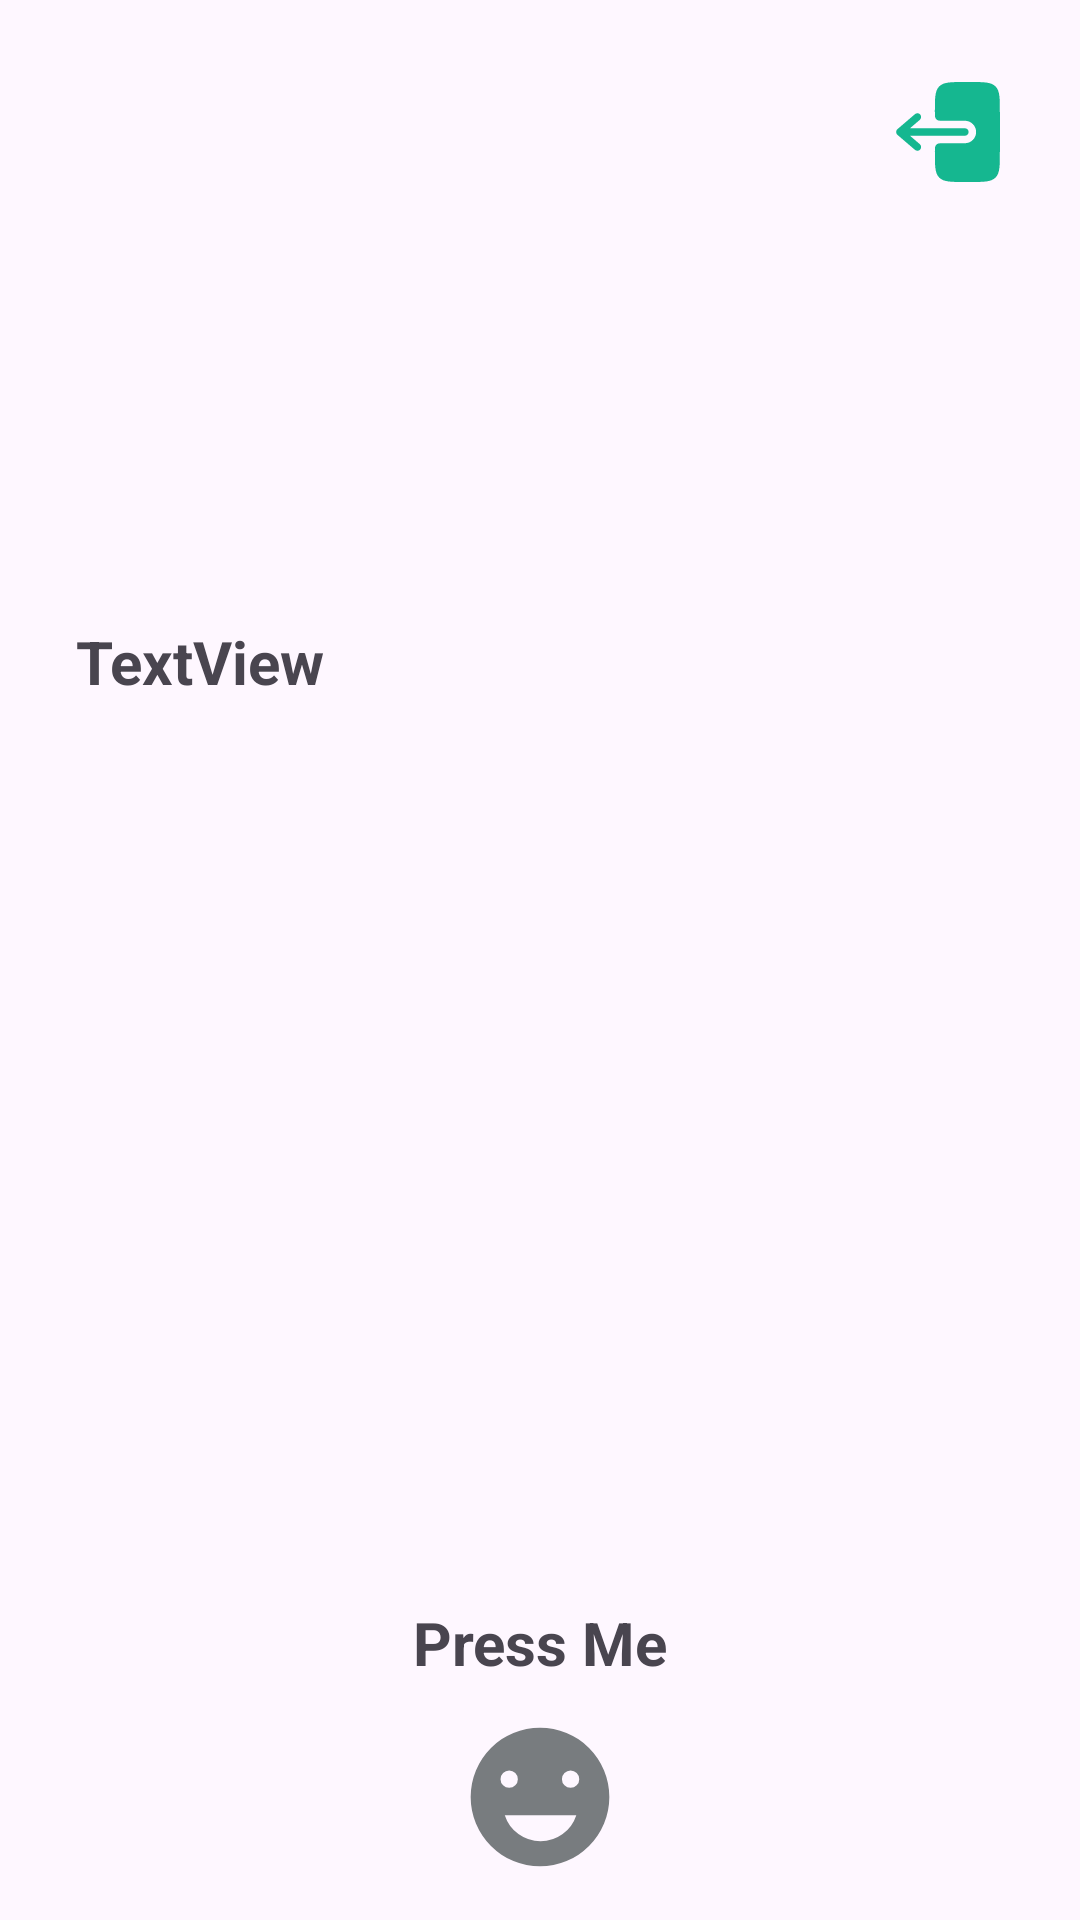

Icon bounding boxes for this 1080×1920 phone screenshot, format (x1, y1, x2, y2):
happy: (470, 1727, 610, 1867)
